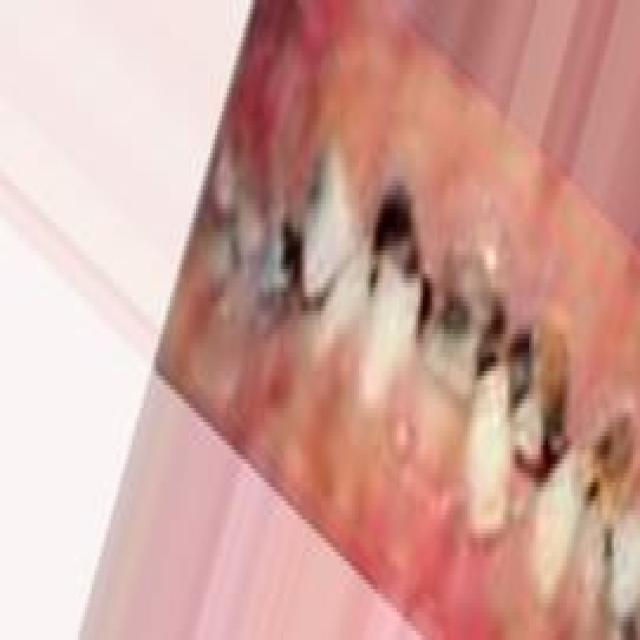caries: (498, 296, 572, 475), (429, 231, 502, 395), (572, 371, 640, 545), (362, 181, 430, 349), (254, 181, 304, 302), (305, 133, 343, 243)
